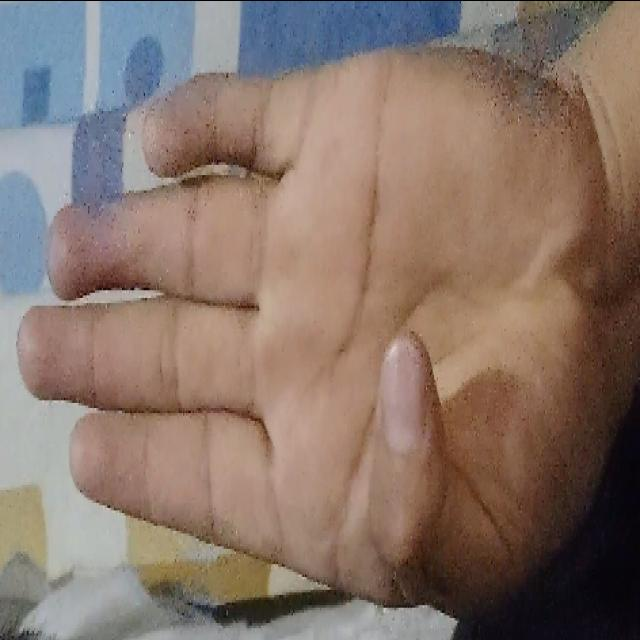B: (11, 31, 628, 624)
